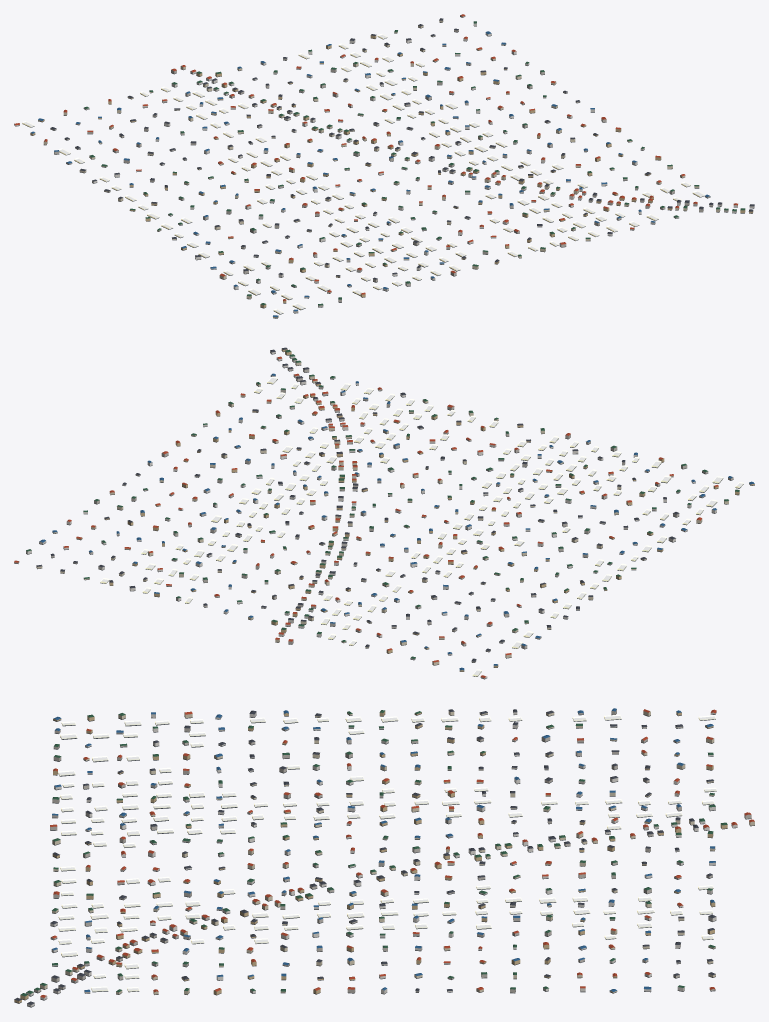
File: buildings_T_W01_S05.glb
3 renders of one model, top to bottom at view 1: azimuth 30°, elevation 25°; view 2: azimuth 150°, elevation 25°; view 3: azimuth 270°, elevation 25°, orthographic. The views are drawn at different scales.
Parts seen in each view (by area): view 1: T_W01_S05_slope_seating_foundations, T_W01_S05_roofs_agri_greenhouse_arch, T_W01_S05_walls_wall_pastel_sand_gray, T_W01_S05_walls_wall_french_ochre_villa, T_W01_S05_walls_wall_modern_warm_white, T_W01_S05_walls_wall_dalat_cream_stucco, T_W01_S05_roofs_roof_slate_French_villa_hip, T_W01_S05_roofs_roof_terracotta_gable, T_W01_S05_roofs_roof_pine_green_hip, T_W01_S05_roofs_roof_highland_blue_gable; view 2: T_W01_S05_slope_seating_foundations, T_W01_S05_roofs_agri_greenhouse_arch, T_W01_S05_walls_wall_pastel_sand_gray, T_W01_S05_walls_wall_modern_warm_white, T_W01_S05_walls_wall_french_ochre_villa, T_W01_S05_walls_wall_dalat_cream_stucco, T_W01_S05_roofs_roof_slate_French_villa_hip, T_W01_S05_roofs_roof_terracotta_gable, T_W01_S05_roofs_roof_pine_green_hip, T_W01_S05_roofs_roof_highland_blue_gable; view 3: T_W01_S05_slope_seating_foundations, T_W01_S05_roofs_agri_greenhouse_arch, T_W01_S05_walls_wall_pastel_sand_gray, T_W01_S05_walls_wall_french_ochre_villa, T_W01_S05_walls_wall_modern_warm_white, T_W01_S05_walls_wall_dalat_cream_stucco, T_W01_S05_roofs_roof_slate_French_villa_hip, T_W01_S05_roofs_roof_terracotta_gable, T_W01_S05_roofs_roof_pine_green_hip, T_W01_S05_roofs_roof_highland_blue_gable.
Boxes of the visible parts, <box> form: T_W01_S05_slope_seating_foundations: <box>14,16,754,318</box>; T_W01_S05_roofs_agri_greenhouse_arch: <box>22,33,704,313</box>; T_W01_S05_walls_wall_pastel_sand_gray: <box>50,15,728,313</box>; T_W01_S05_walls_wall_french_ochre_villa: <box>30,35,753,318</box>; T_W01_S05_walls_wall_modern_warm_white: <box>14,23,754,297</box>; T_W01_S05_walls_wall_dalat_cream_stucco: <box>43,20,720,298</box>; T_W01_S05_roofs_roof_slate_French_villa_hip: <box>50,18,754,279</box>; T_W01_S05_roofs_roof_terracotta_gable: <box>14,14,737,301</box>; T_W01_S05_roofs_roof_pine_green_hip: <box>84,21,745,305</box>; T_W01_S05_roofs_roof_highland_blue_gable: <box>30,31,710,317</box>; T_W01_S05_slope_seating_foundations: <box>14,350,754,679</box>; T_W01_S05_roofs_agri_greenhouse_arch: <box>100,376,743,676</box>; T_W01_S05_walls_wall_pastel_sand_gray: <box>14,359,733,662</box>; T_W01_S05_walls_wall_modern_warm_white: <box>26,351,716,678</box>; T_W01_S05_walls_wall_french_ochre_villa: <box>76,349,754,671</box>; T_W01_S05_walls_wall_dalat_cream_stucco: <box>36,362,728,665</box>; T_W01_S05_roofs_roof_slate_French_villa_hip: <box>36,347,679,661</box>; T_W01_S05_roofs_roof_terracotta_gable: <box>14,356,718,677</box>; T_W01_S05_roofs_roof_pine_green_hip: <box>26,349,739,658</box>; T_W01_S05_roofs_roof_highland_blue_gable: <box>39,373,754,670</box>; T_W01_S05_slope_seating_foundations: <box>14,712,754,1007</box>; T_W01_S05_roofs_agri_greenhouse_arch: <box>58,714,716,991</box>; T_W01_S05_walls_wall_pastel_sand_gray: <box>34,709,751,993</box>; T_W01_S05_walls_wall_french_ochre_villa: <box>14,711,727,1003</box>; T_W01_S05_walls_wall_modern_warm_white: <box>26,711,737,1006</box>; T_W01_S05_walls_wall_dalat_cream_stucco: <box>40,711,754,994</box>; T_W01_S05_roofs_roof_slate_French_villa_hip: <box>14,709,716,1004</box>; T_W01_S05_roofs_roof_terracotta_gable: <box>40,709,754,997</box>; T_W01_S05_roofs_roof_pine_green_hip: <box>20,710,727,996</box>; T_W01_S05_roofs_roof_highland_blue_gable: <box>52,708,715,991</box>.
Size of the model in its own units: 1832 by 37.49 by 1943.
